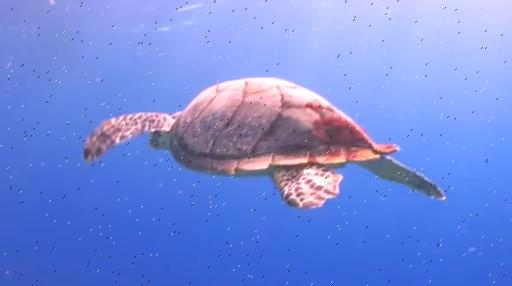Fish: (84, 77, 443, 207)
